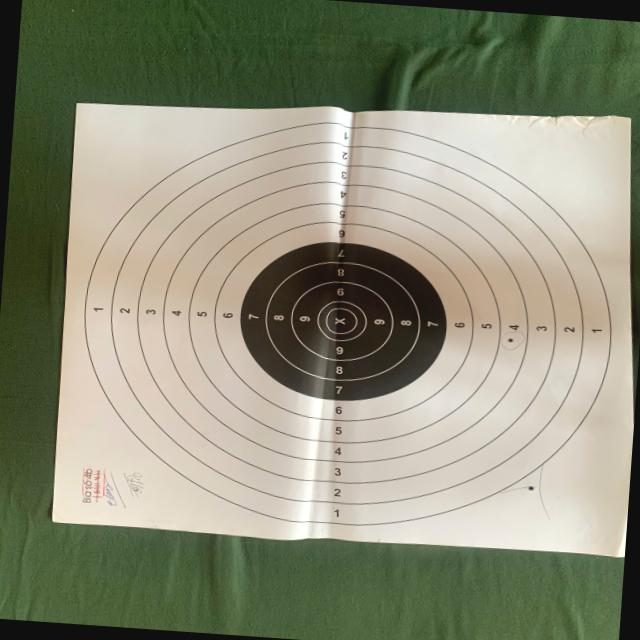bullet: (507, 337, 514, 341), (338, 406, 342, 413), (528, 486, 534, 490)
target: (51, 103, 632, 556)
